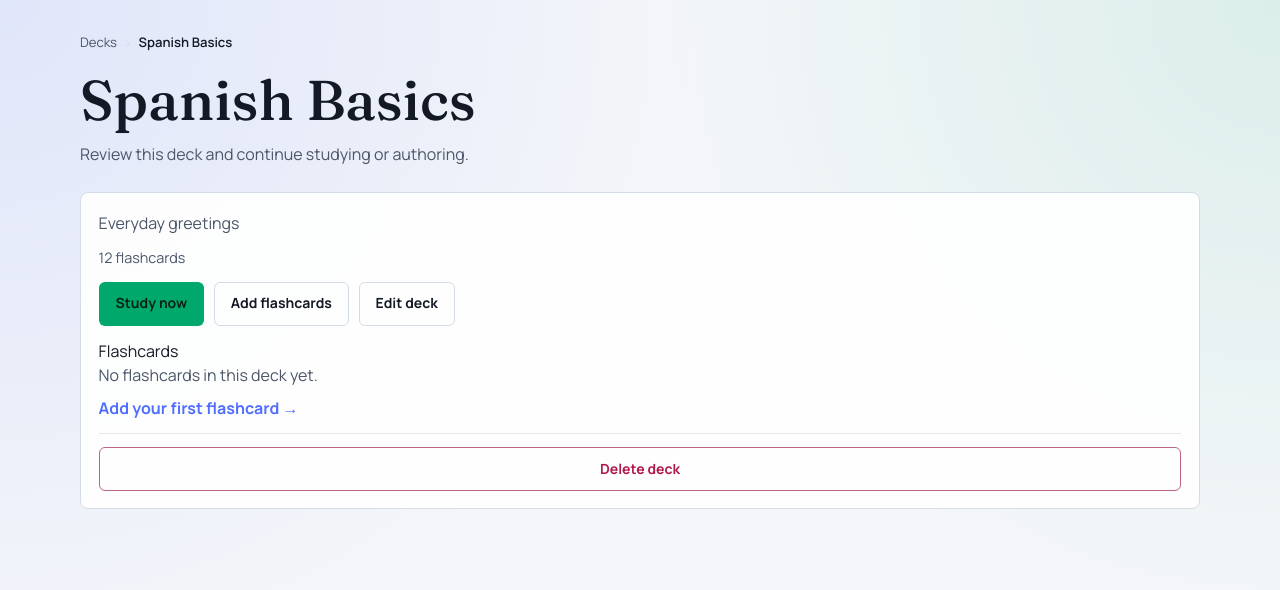
Test: deck routes › disables confirm delete and cancel buttons while delete mutation is pending
Click the button "Delete deck" at [640, 469], box [99,447,1181,491]
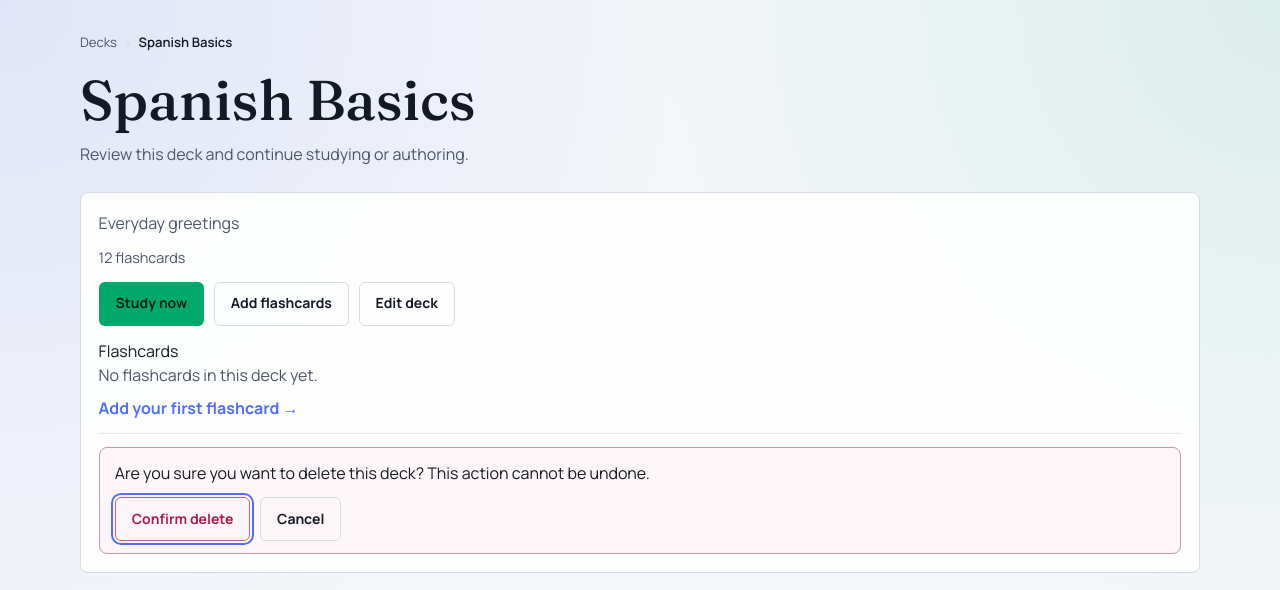
Click the button "Confirm delete" at [183, 519], box [115,497,250,541]
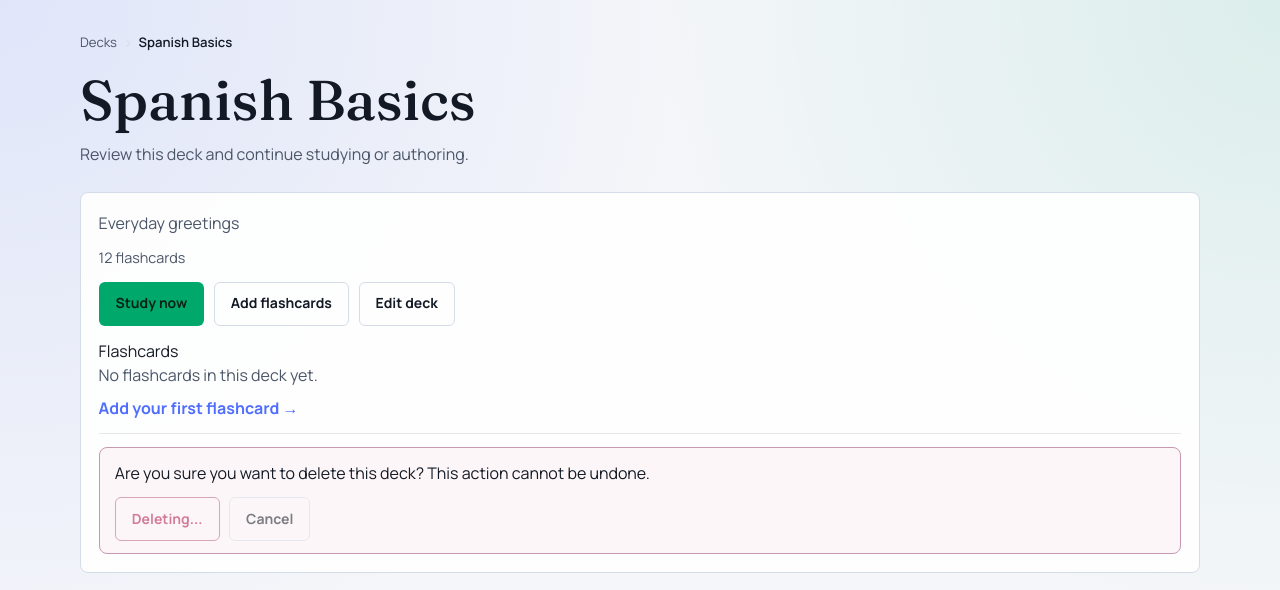
Check: the button "Deleting..." is disabled, box [115,497,220,541]
Check: the button "Cancel" is disabled, box [229,497,310,541]
